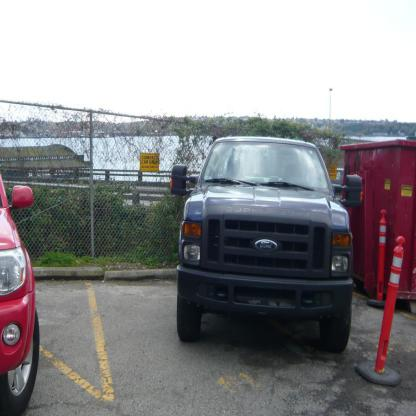Car: (170, 136, 363, 354), (0, 172, 40, 416)
Truck: (170, 137, 363, 352)
